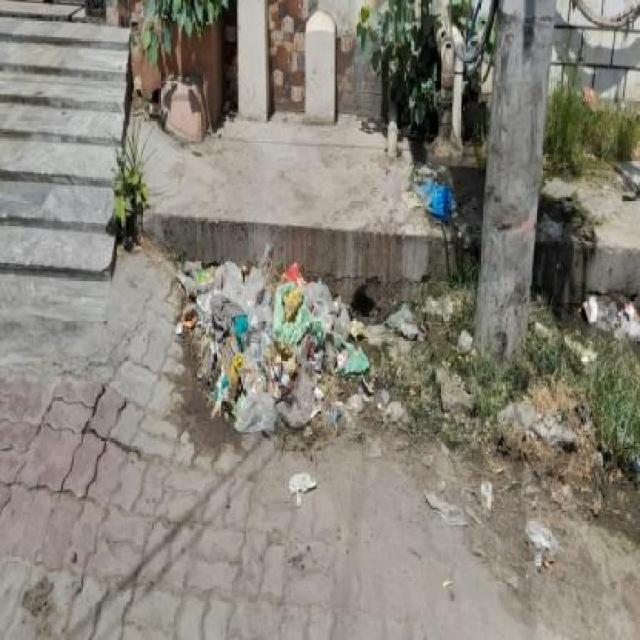garbage: (165, 232, 640, 560), (400, 160, 474, 231)
